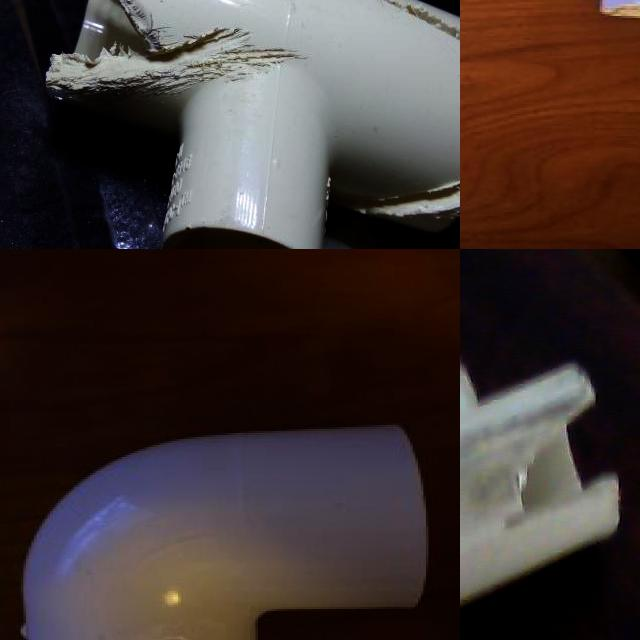Defective: (474, 382, 631, 540), (74, 0, 242, 95), (98, 45, 304, 94), (332, 161, 460, 236), (371, 0, 460, 70)
L Joint: (20, 424, 431, 640)
T Joint: (48, 0, 460, 249), (460, 363, 621, 615)
